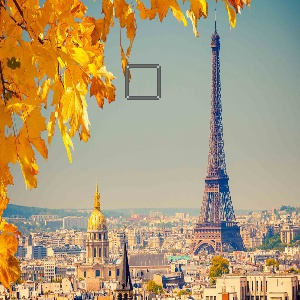square: (124, 64, 162, 100)
